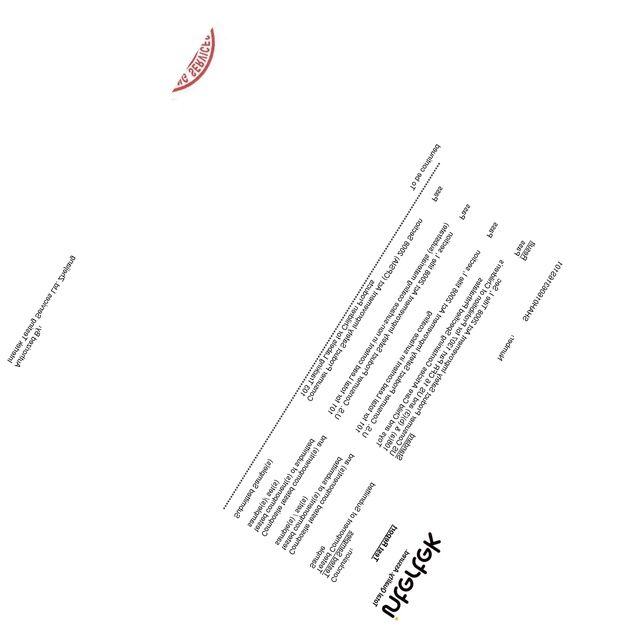intertek: (381, 531, 444, 620)
